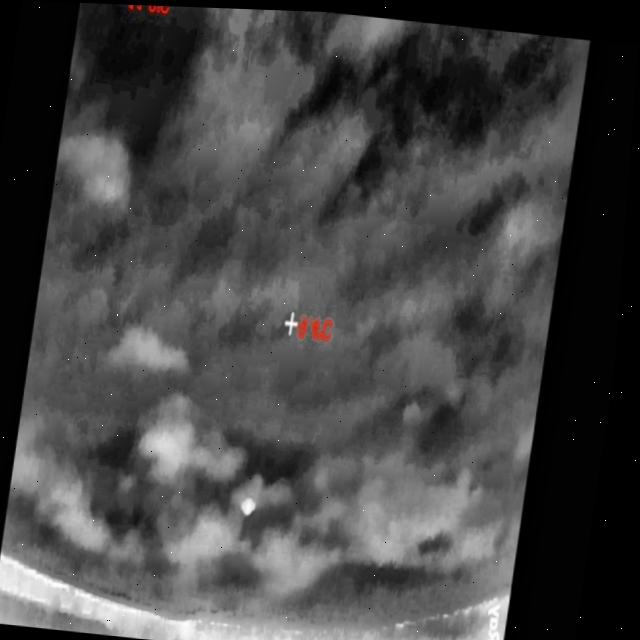drone: (246, 491, 262, 516)
